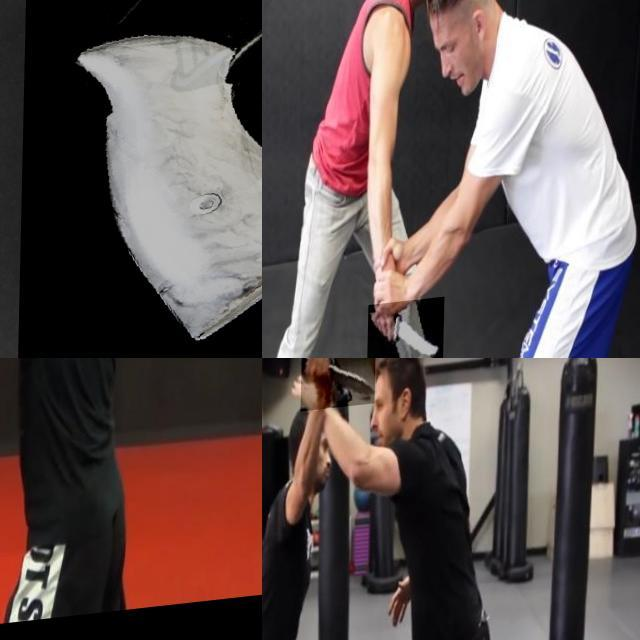-: (300, 358, 376, 417), (368, 305, 446, 358), (0, 358, 43, 403)
gun-knife-thesis - v11 Yolov5 augmented: (20, 0, 262, 358)
